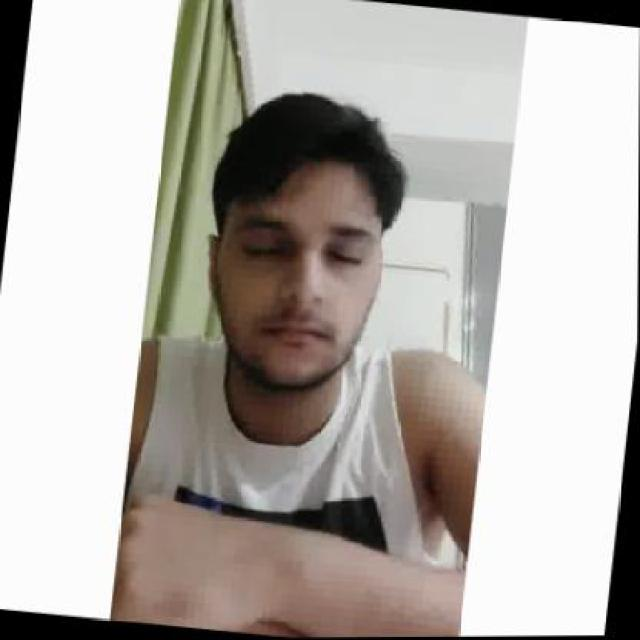inattentif: (187, 76, 398, 407)
